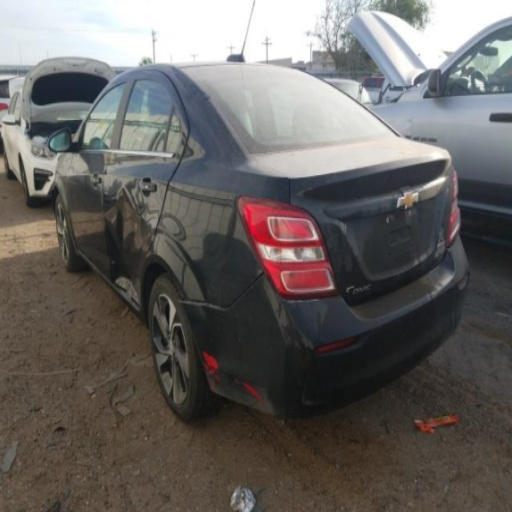dent: (100, 176, 153, 313)
scratch: (114, 276, 139, 306)
